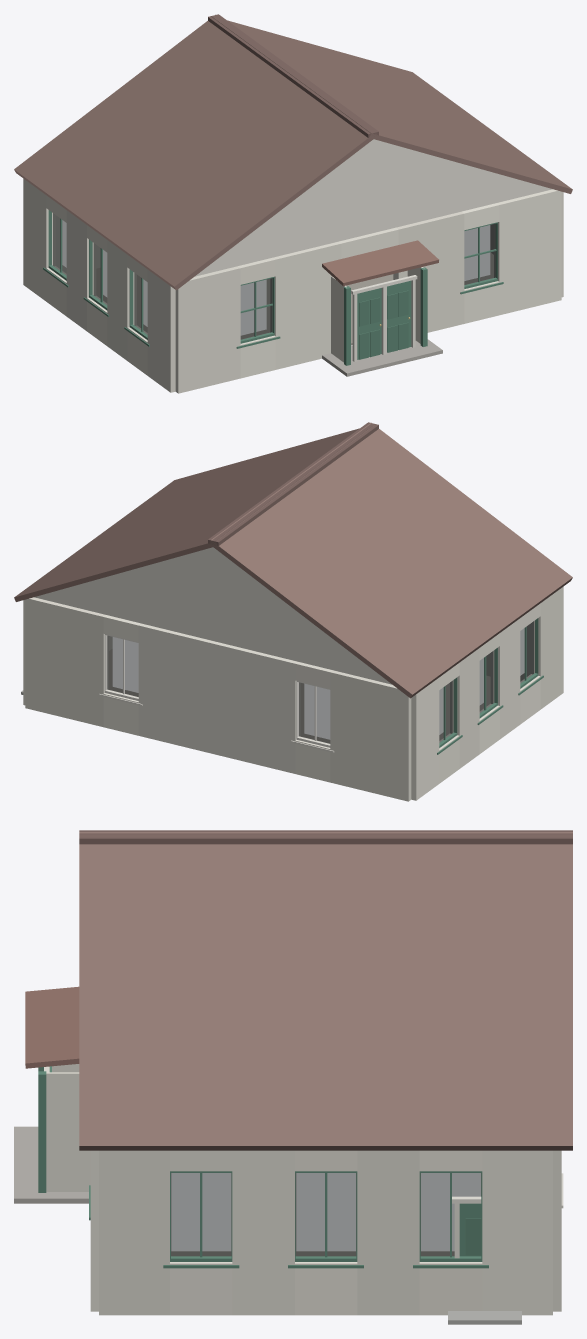
Rendered from town_village_hall_a.glb.
3 renders of one model, top to bottom at view 1: azimuth 30°, elevation 25°; view 2: azimuth 150°, elevation 25°; view 3: azimuth 270°, elevation 25°, orthographic. The views are drawn at different scales.
Parts seen in each view (by area): view 1: body, window_light; view 2: body, window_light; view 3: body, window_light.
Boxes of the visible parts, bbox=[...] form: body: bbox=[14, 14, 572, 393]; window_light: bbox=[62, 220, 490, 335]; body: bbox=[14, 422, 572, 801]; window_light: bbox=[112, 628, 524, 739]; body: bbox=[14, 830, 572, 1324]; window_light: bbox=[171, 1173, 480, 1251].
Size of what is drawn, in the model's own units: 12.78 by 6.54 by 9.85.
